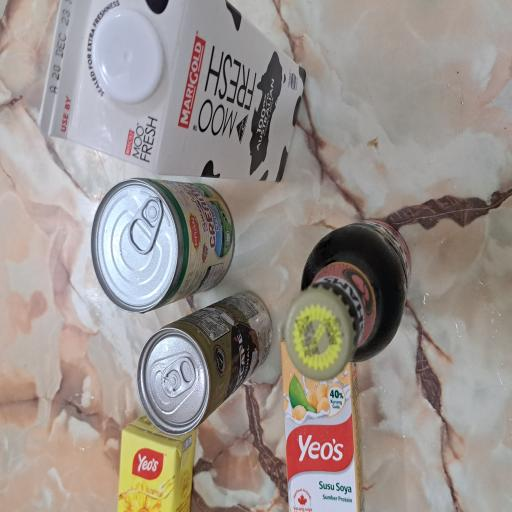can: (58, 182, 168, 366), (150, 120, 251, 314)
drink carton: (245, 48, 384, 412), (0, 372, 132, 489), (0, 154, 76, 263)
glass bottle: (99, 378, 220, 512)
pop tab: (193, 169, 237, 217), (85, 214, 117, 259)
